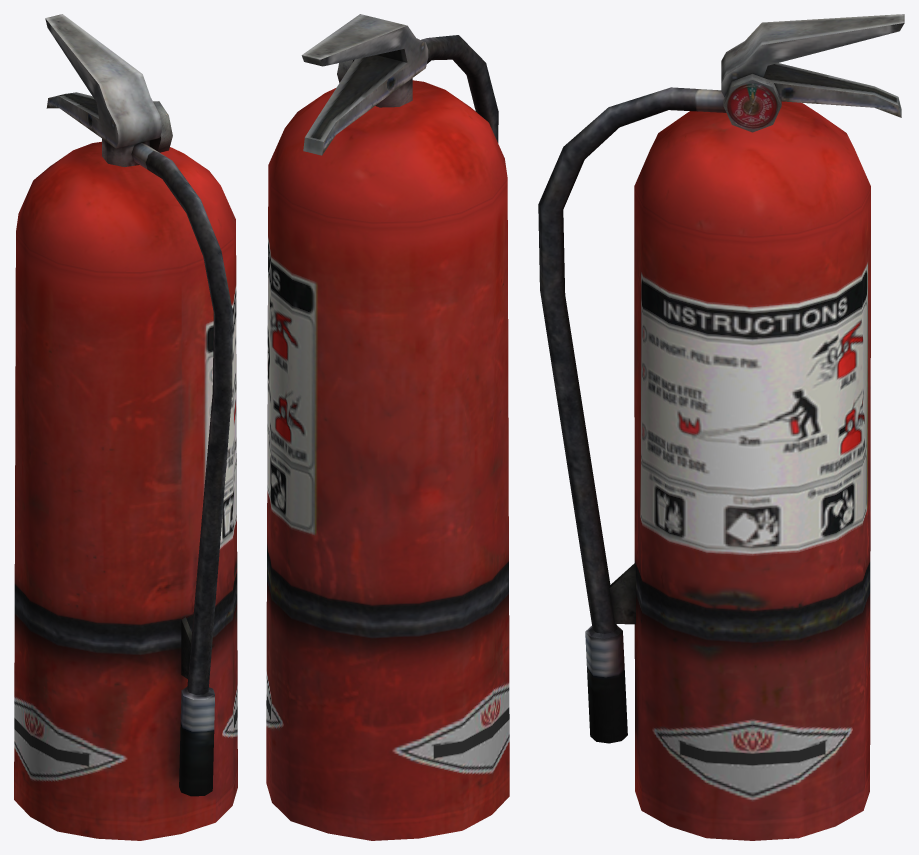
The model's file is Kitchen_extinguisher.FBX.
3 views of the same model, side by side, from view 1: azimuth 30°, elevation 25°; view 2: azimuth 150°, elevation 25°; view 3: azimuth 270°, elevation 25° (orthographic). The views are drawn at different scales.
Parts seen in each view (by area): view 1: Kitchen_extinguisher; view 2: Kitchen_extinguisher; view 3: Kitchen_extinguisher.
Boxes of the visible parts, bbox=[...] form: Kitchen_extinguisher: bbox=[14, 14, 237, 840]; Kitchen_extinguisher: bbox=[266, 14, 509, 840]; Kitchen_extinguisher: bbox=[538, 14, 904, 840].
Bounding box in the file's own units: 16.97 × 61.08 × 26.25.
